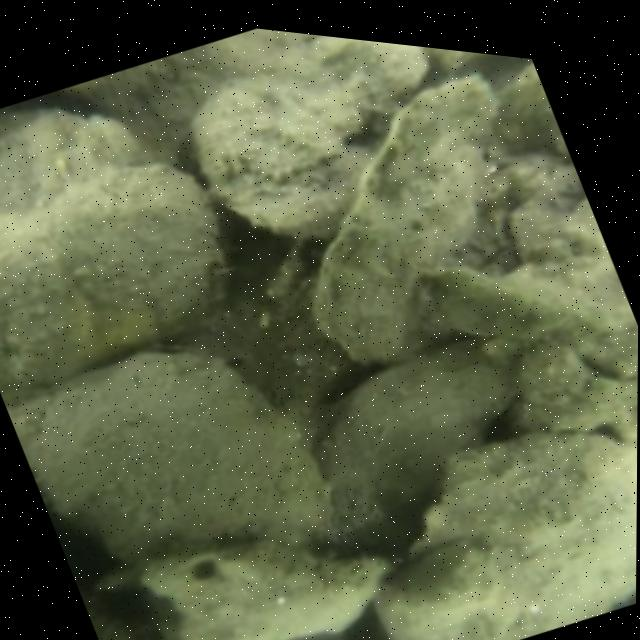Oyster-Indeterminate: (2, 344, 334, 568), (306, 68, 507, 366), (361, 424, 637, 640), (0, 158, 236, 396), (326, 328, 526, 554), (174, 35, 426, 202)
